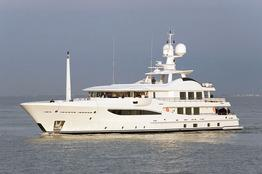yacht: (19, 29, 241, 135)
